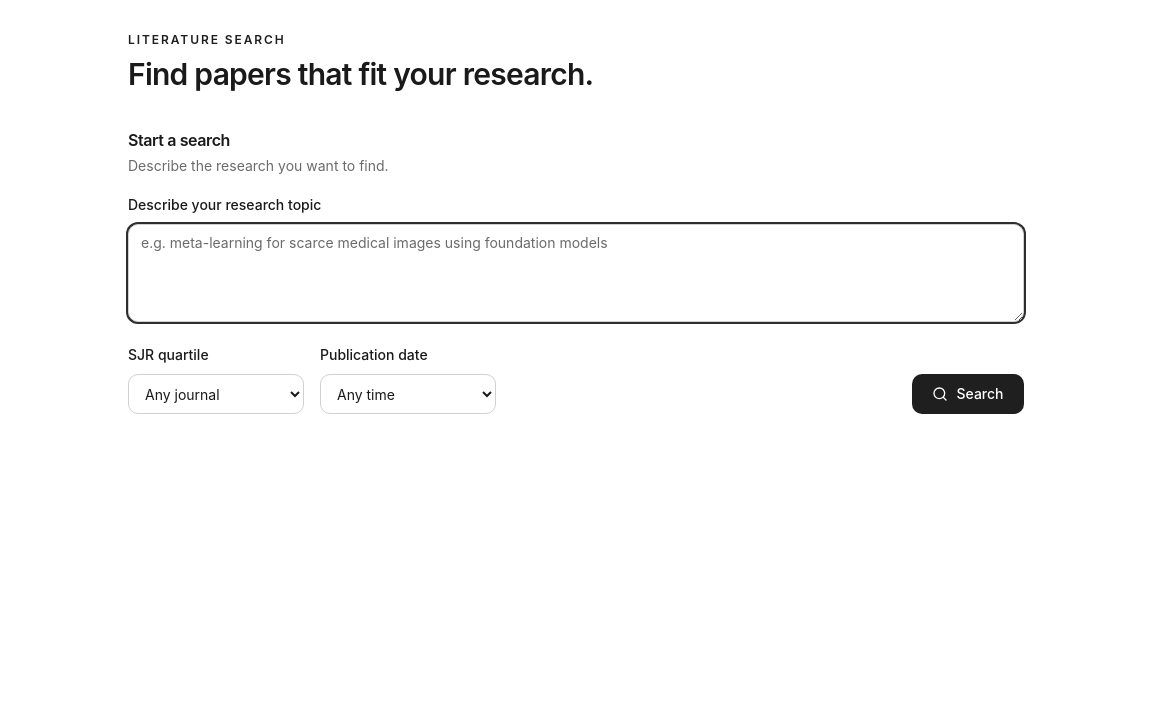
Test: App › offers Google Scholar-style year choices and submits the selected year
Expected: the dropdown labelled "Publication date" shows "Any time", [320,374,496,414]
Step 1. Type "climate adaptation strategies for resilient cities under increasingly severe weather events" into the text box labelled "Describe your research topic" → (576, 273), box [128,224,1024,322]
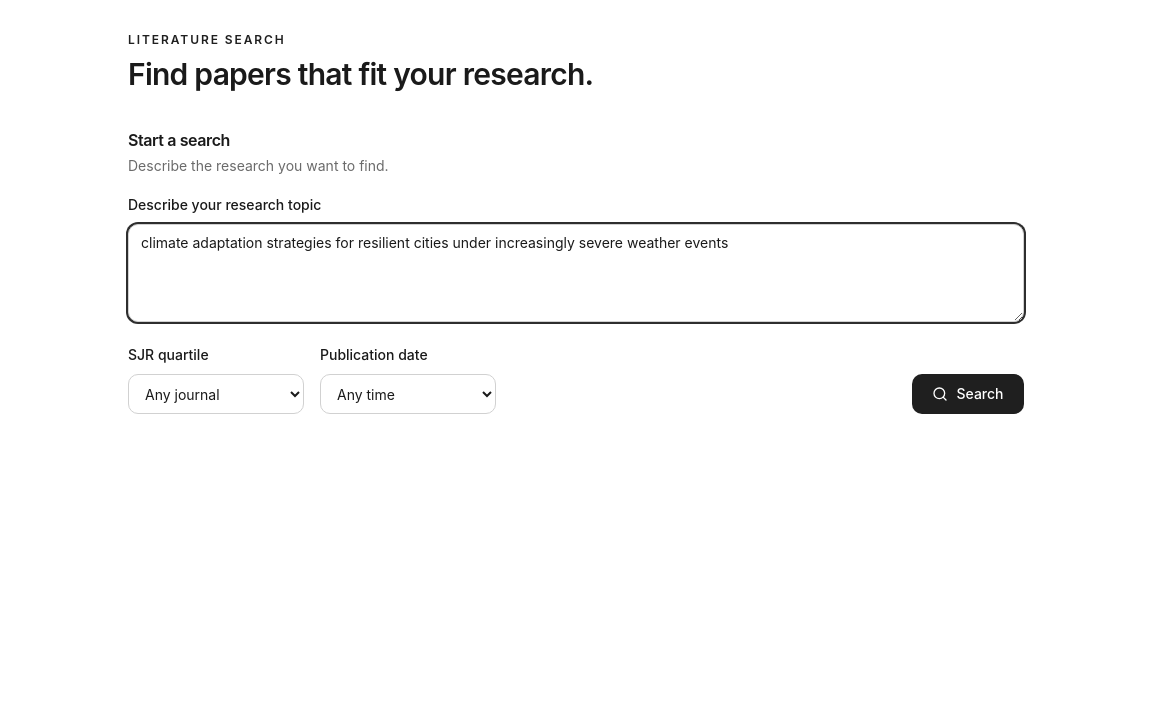
Step 2. Select "Since 2022" in the dropdown labelled "Publication date" → (408, 394), box [320,374,496,414]
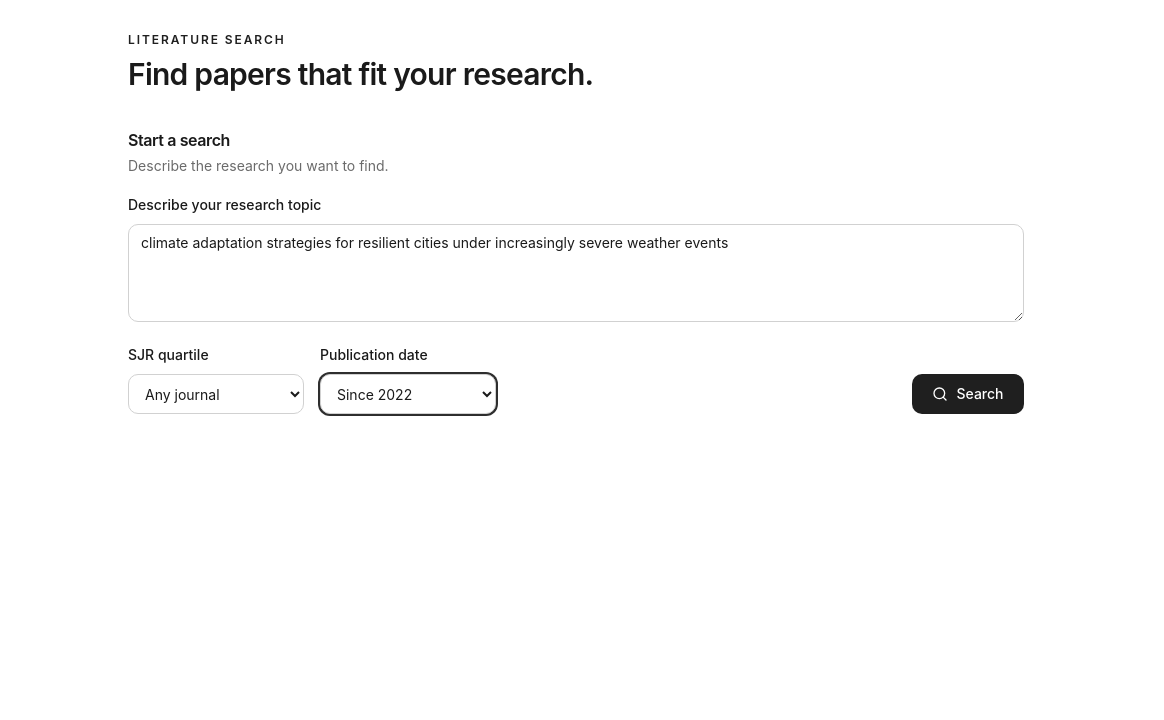
Step 3. Click the button "Search" → (968, 394), box [912,374,1024,414]
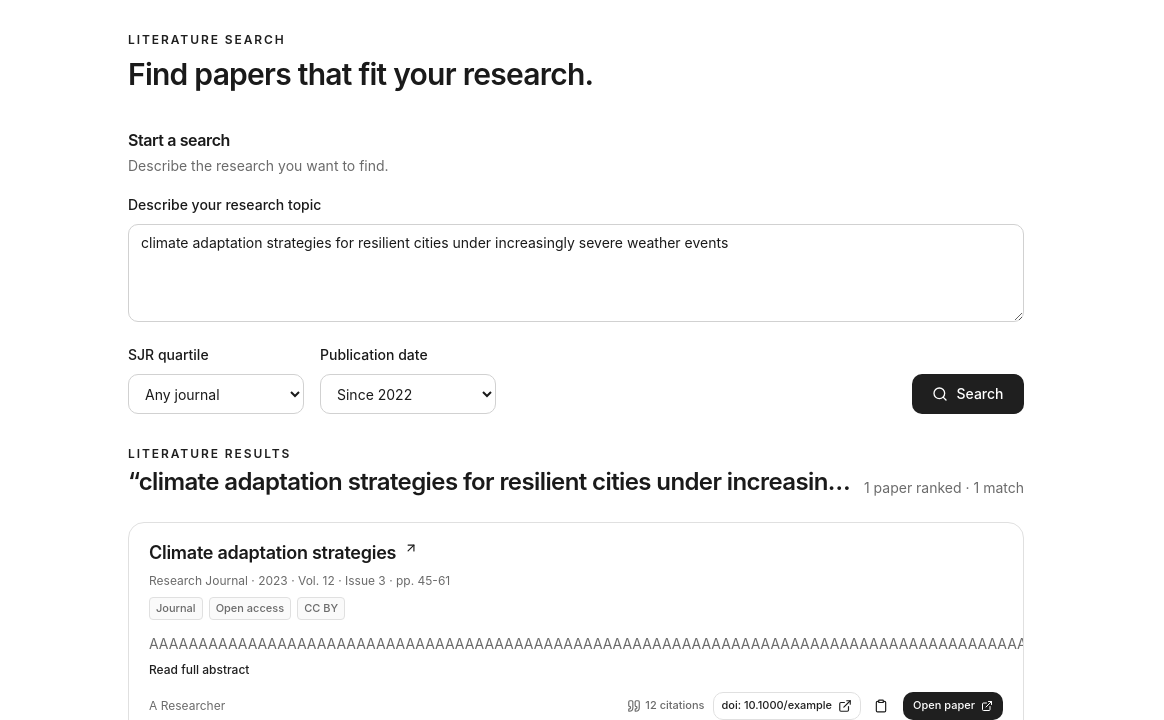
Now the heading "Climate adaptation strategies" is shown, box [149,541,418,563]
